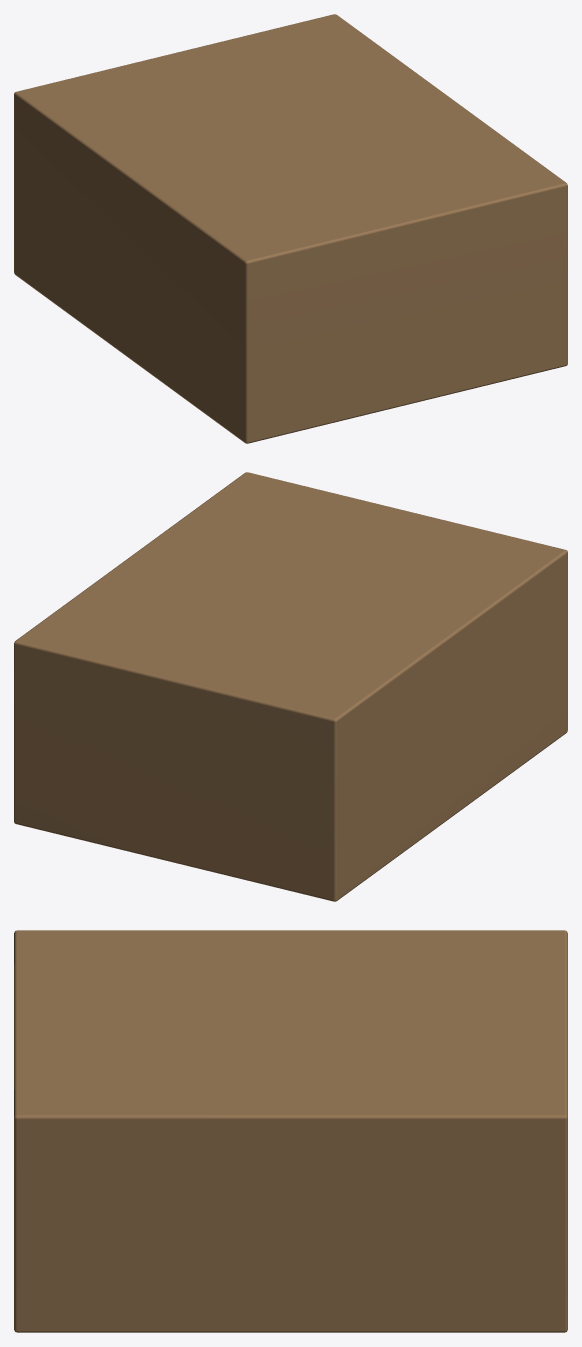
File: VP_Harbor_Cargo_07.fbx
3 views of the same model, one above another, from view 1: azimuth 30°, elevation 25°; view 2: azimuth 150°, elevation 25°; view 3: azimuth 270°, elevation 25° (orthographic). The views are drawn at different scales.
Parts seen in each view (by area): view 1: VP_Harbor_Cargo_07; view 2: VP_Harbor_Cargo_07; view 3: VP_Harbor_Cargo_07.
Boxes of the visible parts, x1,y1,x2,y2 form: VP_Harbor_Cargo_07: [14, 14, 567, 443]; VP_Harbor_Cargo_07: [14, 472, 567, 901]; VP_Harbor_Cargo_07: [14, 930, 567, 1332].
Size of what is drawn, in the model's own units: 240 by 300 by 130.
